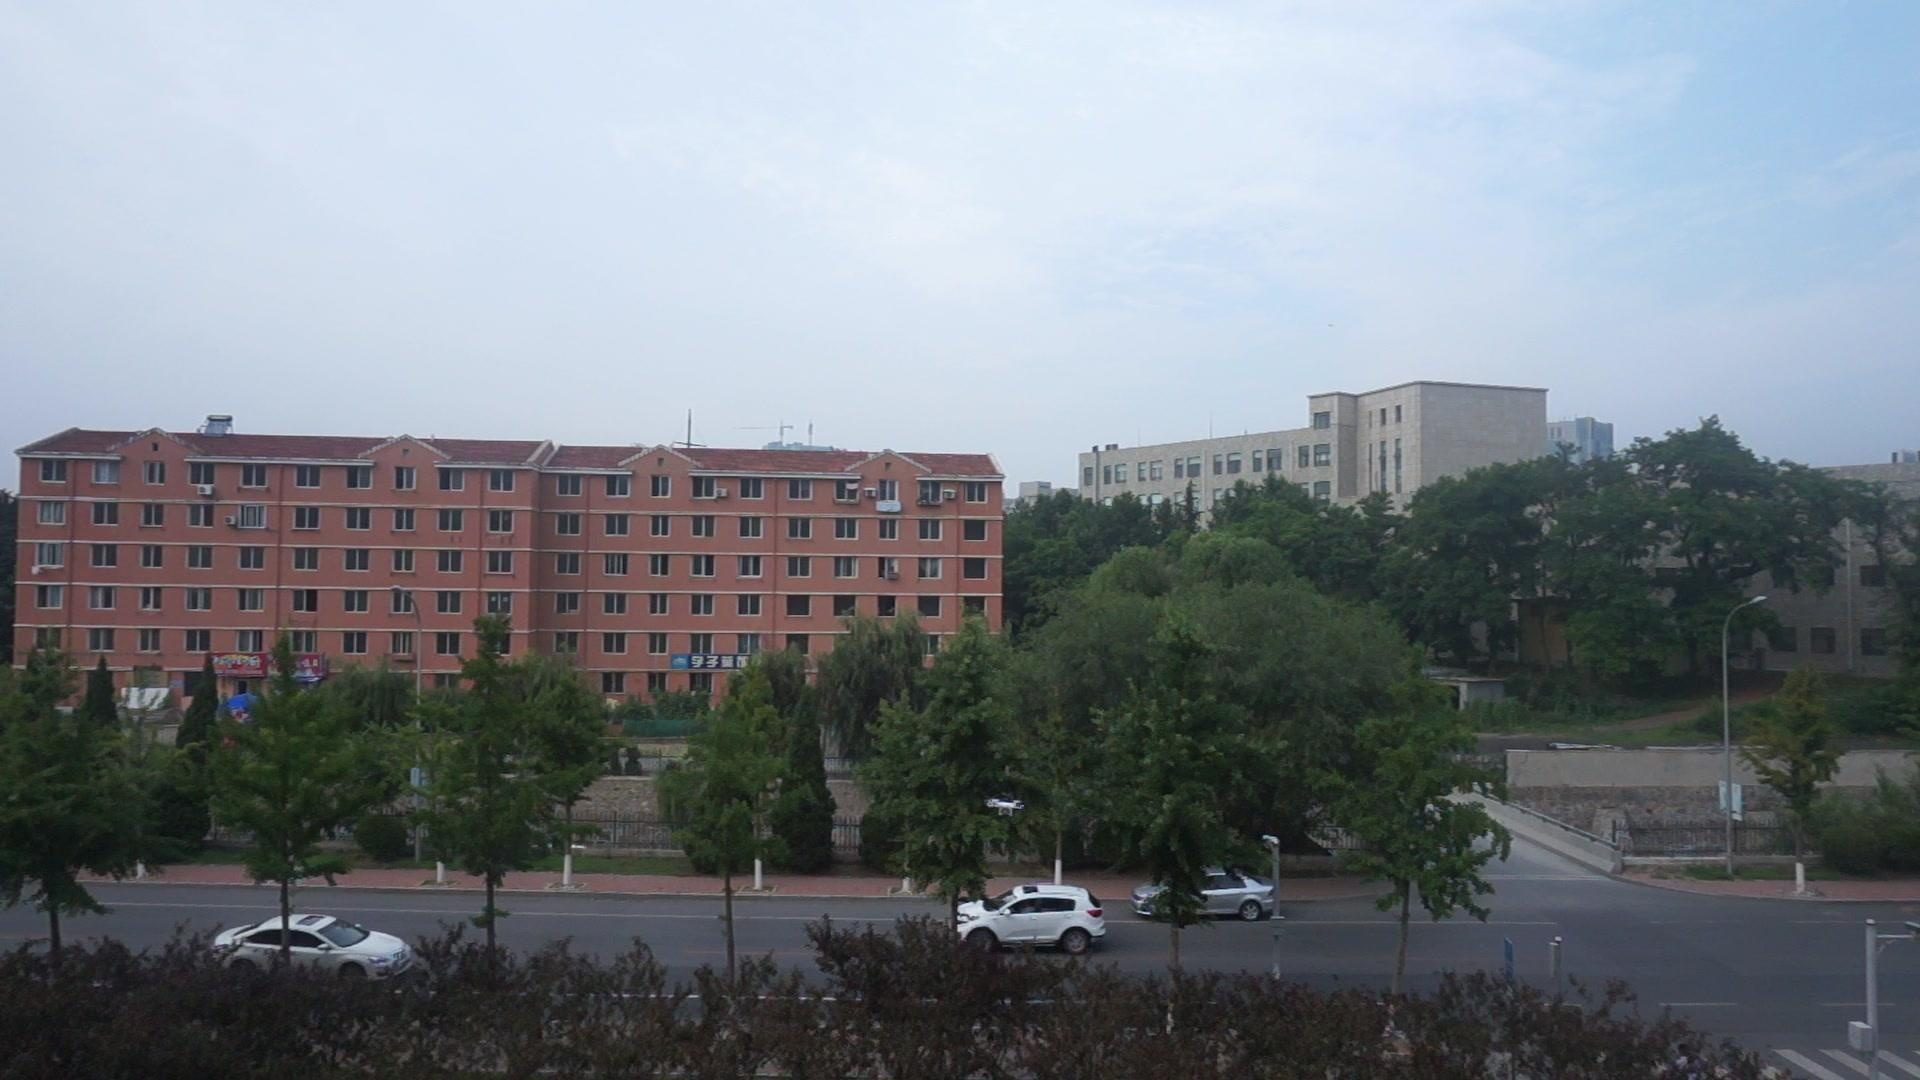UAV: (986, 799, 1025, 818)
